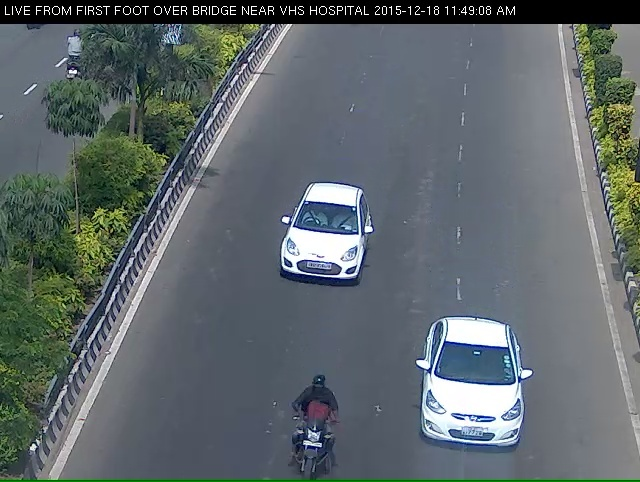Car: (414, 328, 534, 469), (270, 187, 372, 327)
Person: (282, 409, 341, 478)
